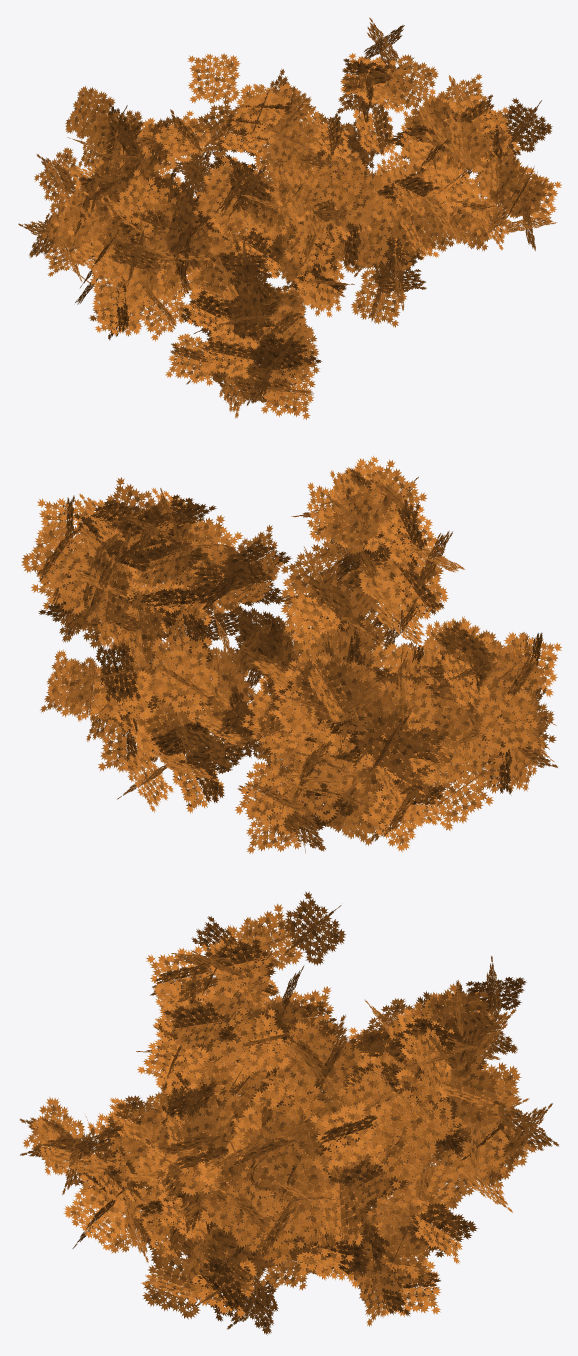
Rendered from Big Tree Leaves.obj.
The picture shows the model from 3 angles, top to bottom: view 1: azimuth 30°, elevation 25°; view 2: azimuth 150°, elevation 25°; view 3: azimuth 270°, elevation 25°; orthographic projection. The views are drawn at different scales.
Visible parts, largest first — view 1: Leaves_Plane.009; view 2: Leaves_Plane.009; view 3: Leaves_Plane.009.
Boxes of the visible parts, <box> form: Leaves_Plane.009: <box>18,17,561,419</box>; Leaves_Plane.009: <box>21,455,561,853</box>; Leaves_Plane.009: <box>20,891,559,1335</box>.
Bounding box in the file's own units: 30.4 × 19.77 × 25.72.
